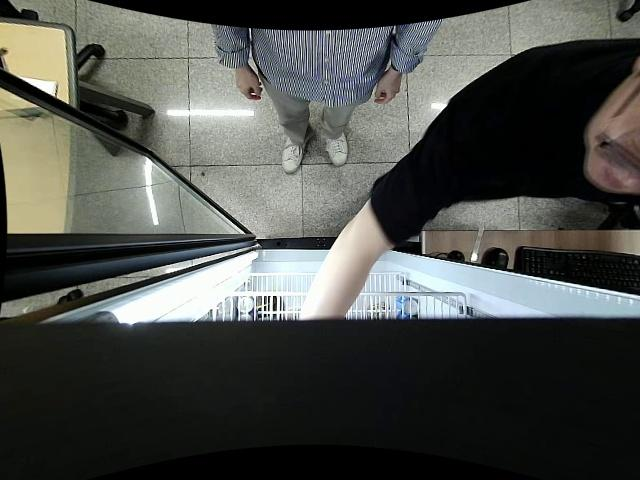00_hand: (375, 74, 402, 104), (234, 71, 262, 99)
